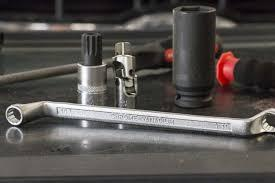wrench: (3, 98, 274, 136)
